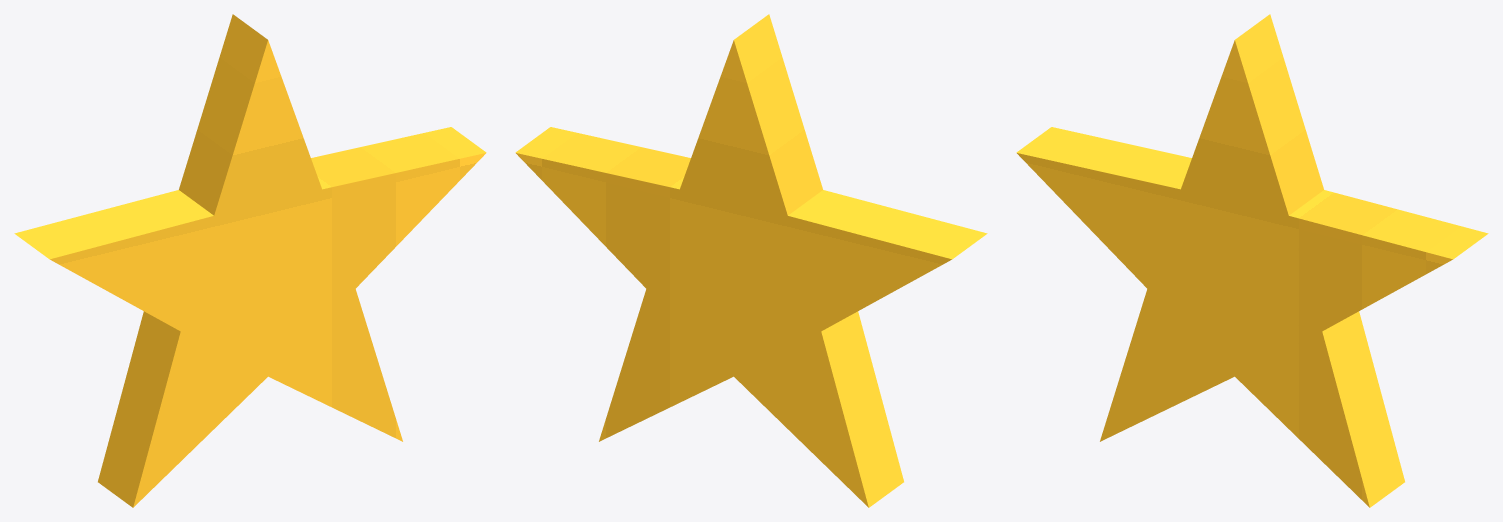
Rendered from estrella.glb.
3 views of the same model, side by side, from view 1: azimuth 30°, elevation 25°; view 2: azimuth 150°, elevation 25°; view 3: azimuth 330°, elevation 25° (orthographic).
Parts seen in each view (by area): view 1: estrella; view 2: estrella; view 3: estrella.
Part boxes in pixels (x1=…): estrella: x1=14, y1=14, x2=486, y2=507; estrella: x1=515, y1=14, x2=987, y2=507; estrella: x1=1016, y1=14, x2=1488, y2=507.
Size of the model in its own units: 0.856 by 0.8141 by 0.12.
Materials: 1 (1 with a texture image).
